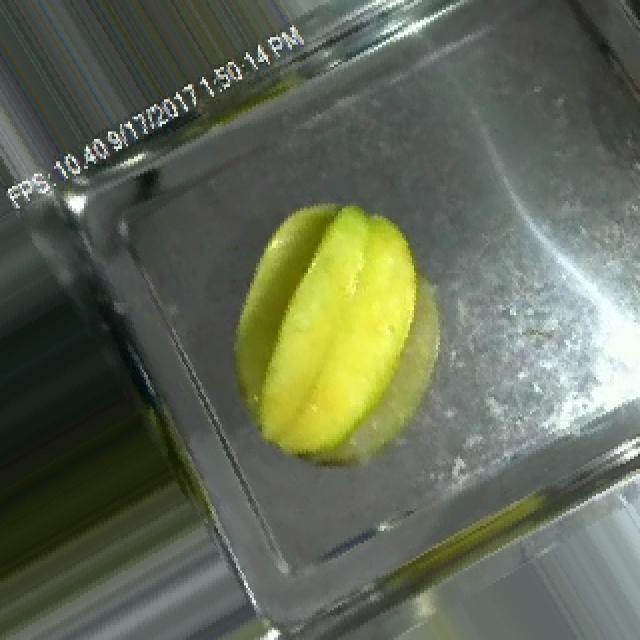fruit: (164, 161, 510, 506)
